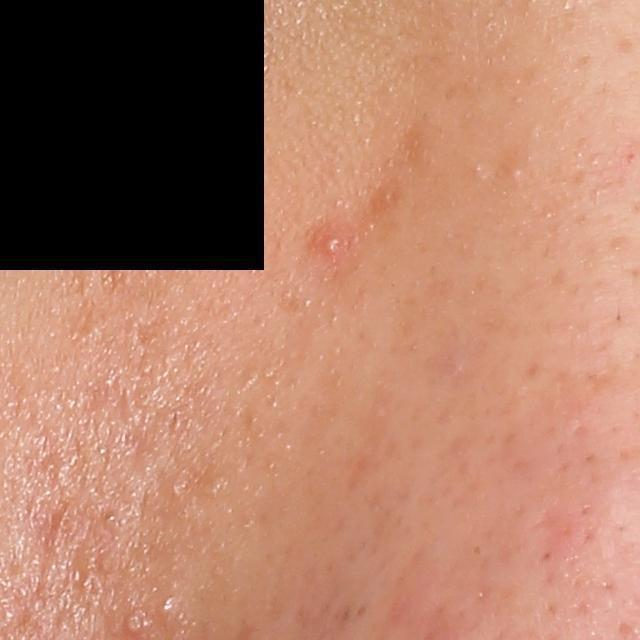papule: (318, 230, 350, 258)
